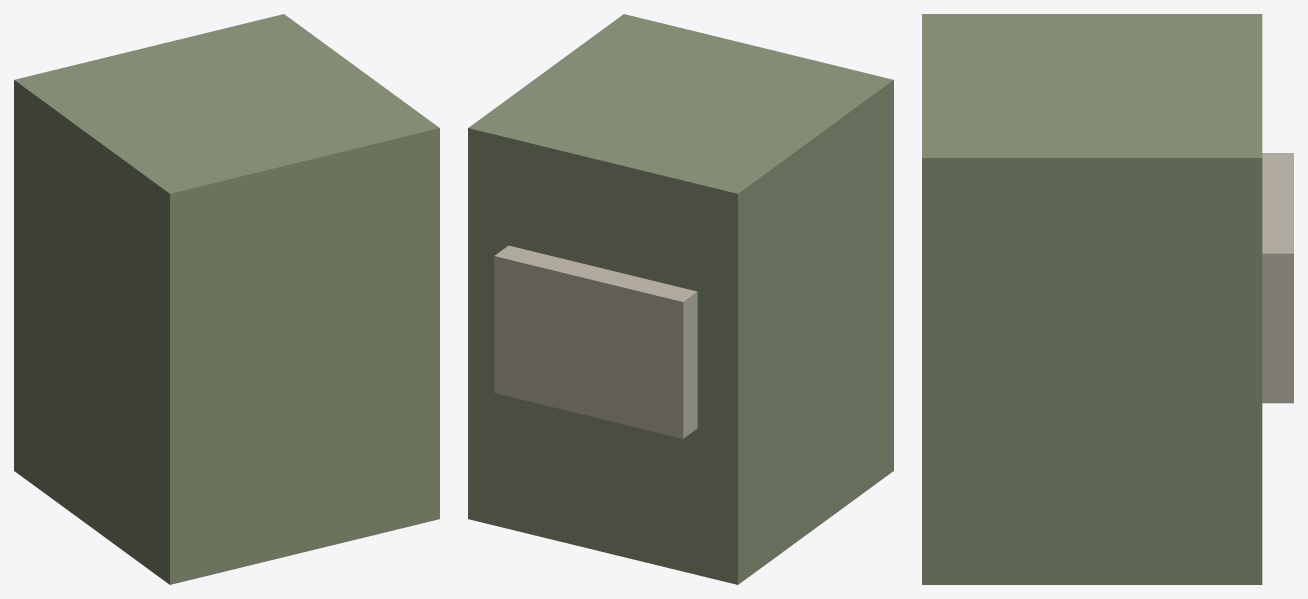
The model's file is canned_food.glb.
The picture shows the model from 3 angles, left to right: view 1: azimuth 30°, elevation 25°; view 2: azimuth 150°, elevation 25°; view 3: azimuth 270°, elevation 25°; orthographic projection. The views are drawn at different scales.
Visible parts, largest first — view 1: body; view 2: body; view 3: body.
Boxes of the visible parts, x1,y1,x2,y2 form: body: [14, 14, 439, 584]; body: [468, 14, 893, 584]; body: [922, 14, 1293, 584].
Size of the model in its own units: 0.13 by 0.18 by 0.142.
